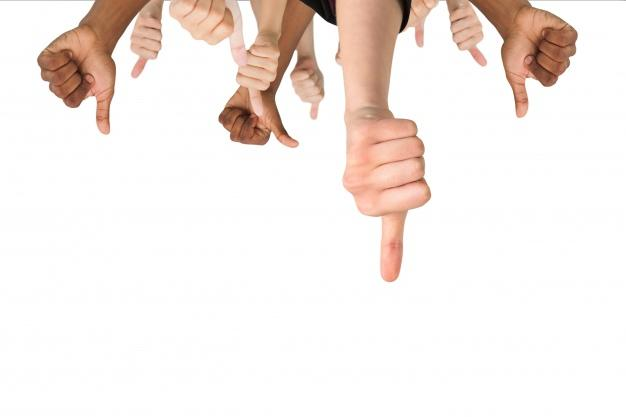thumbsdown: (337, 113, 432, 282), (499, 6, 580, 119), (36, 27, 118, 137), (167, 0, 249, 70), (217, 88, 300, 150), (234, 39, 283, 117), (445, 2, 488, 67), (129, 12, 164, 80), (289, 60, 325, 120)
